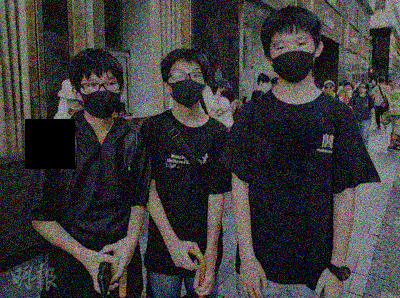mask_weared_incorrect: (68, 98, 83, 115)
with_mask: (270, 35, 318, 83), (82, 75, 122, 119), (171, 67, 206, 108), (221, 86, 230, 98), (262, 81, 271, 91)
without_mask: (326, 83, 336, 96), (359, 83, 369, 94)
